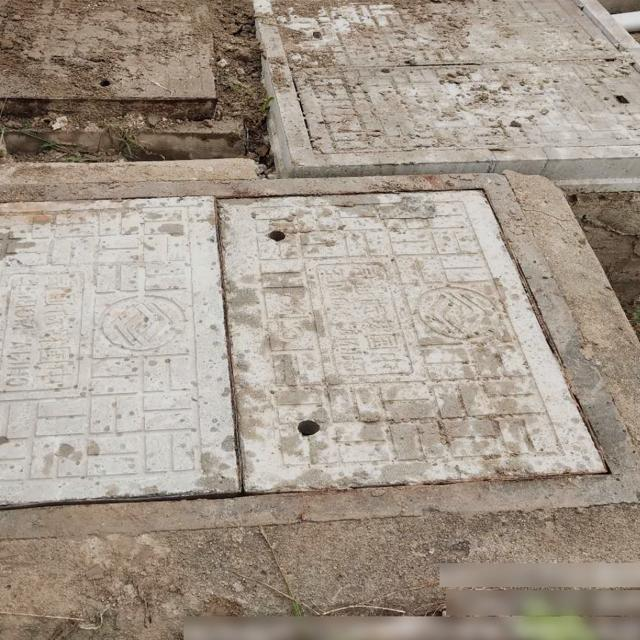good: (0, 171, 640, 547), (252, 0, 640, 177)
